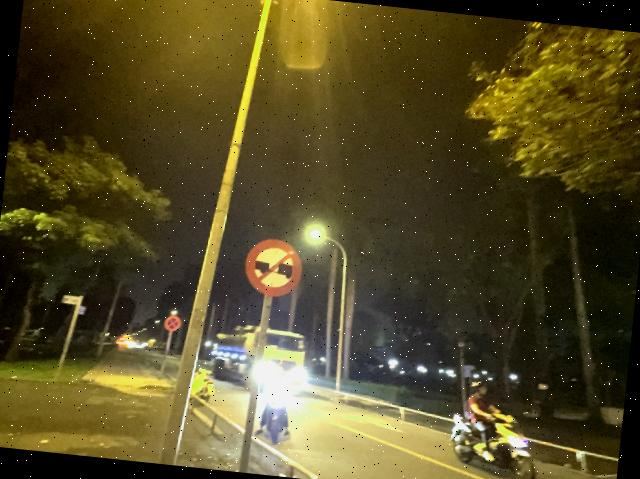cam-xe-somi-romooc: (242, 236, 304, 299)
